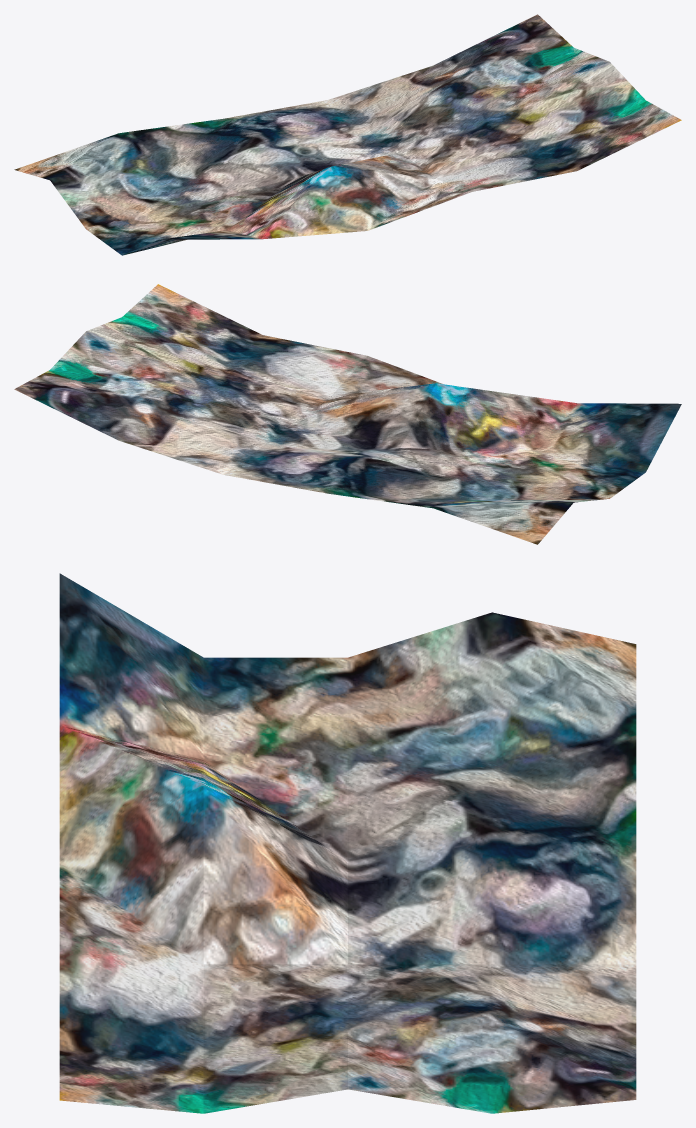
File: Garbage_Cart_01_Trash.fbx
3 views of the same model, one above another, from view 1: azimuth 30°, elevation 25°; view 2: azimuth 150°, elevation 25°; view 3: azimuth 270°, elevation 25° (orthographic). The views are drawn at different scales.
Parts seen in each view (by area): view 1: Garbage_Cart_01_Trash; view 2: Garbage_Cart_01_Trash; view 3: Garbage_Cart_01_Trash.
Part boxes in pixels (x1,y1,x2,y2): Garbage_Cart_01_Trash: (14, 14, 681, 255); Garbage_Cart_01_Trash: (14, 284, 681, 544); Garbage_Cart_01_Trash: (59, 573, 636, 1113).
Size of the model in its own units: 188 by 14.5 by 89.81.
